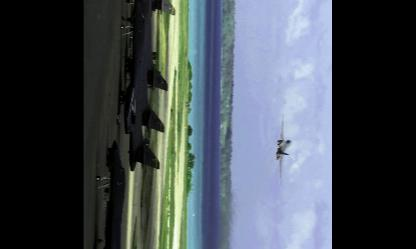AV8B: (119, 0, 160, 173), (126, 0, 166, 138), (94, 138, 143, 247), (132, 0, 170, 100), (276, 113, 292, 187), (140, 0, 176, 24)
